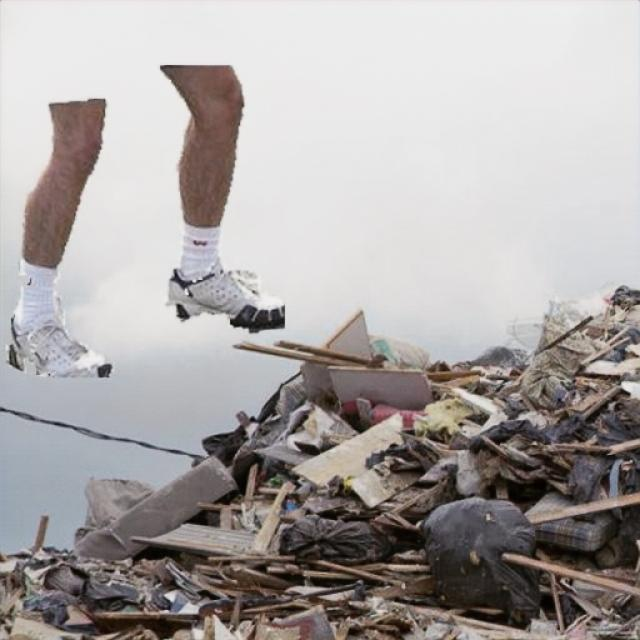Person in Rubble: (6, 65, 284, 376)
